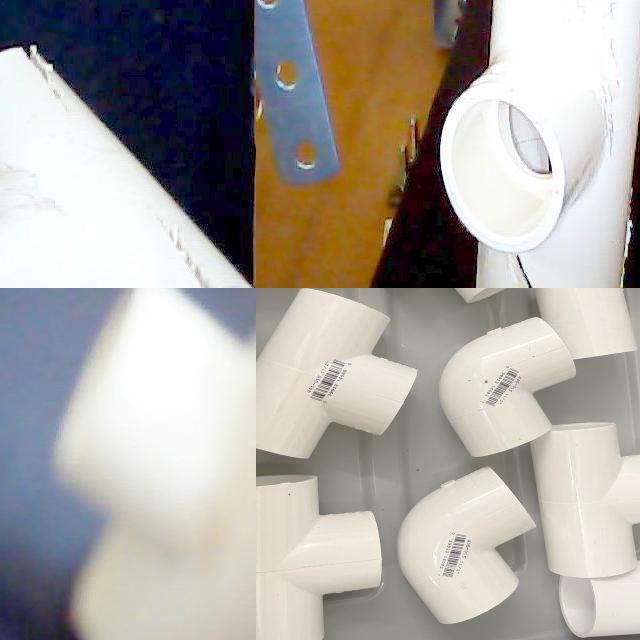Defective: (597, 48, 640, 288), (129, 210, 256, 288), (487, 221, 585, 288), (9, 43, 83, 129), (0, 89, 42, 211)
L Joint: (398, 467, 537, 626)
T Joint: (50, 288, 256, 640), (0, 47, 250, 288), (256, 288, 416, 462), (256, 290, 418, 460), (256, 473, 382, 640), (437, 317, 578, 460), (534, 425, 640, 579)
